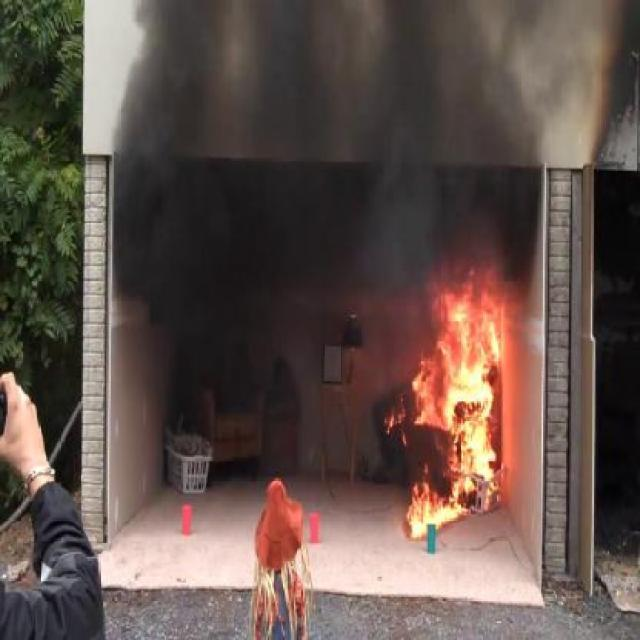fire: (382, 269, 516, 563)
smoke: (102, 21, 396, 466), (394, 49, 562, 262)
